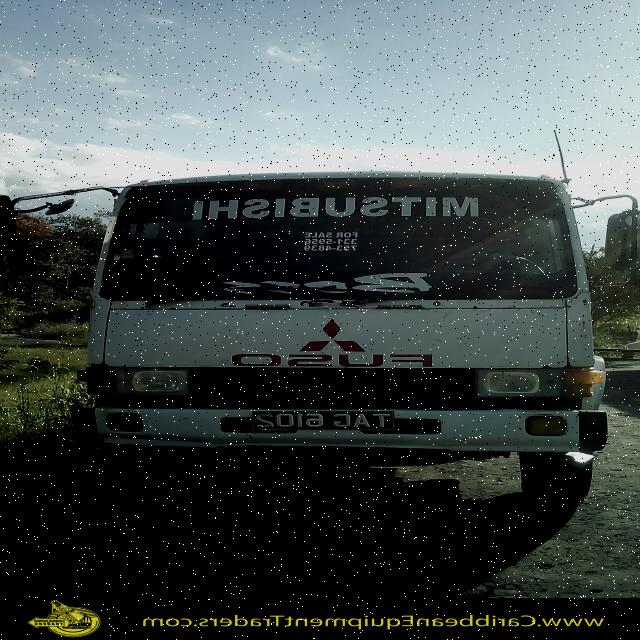truck: (62, 178, 640, 502)
